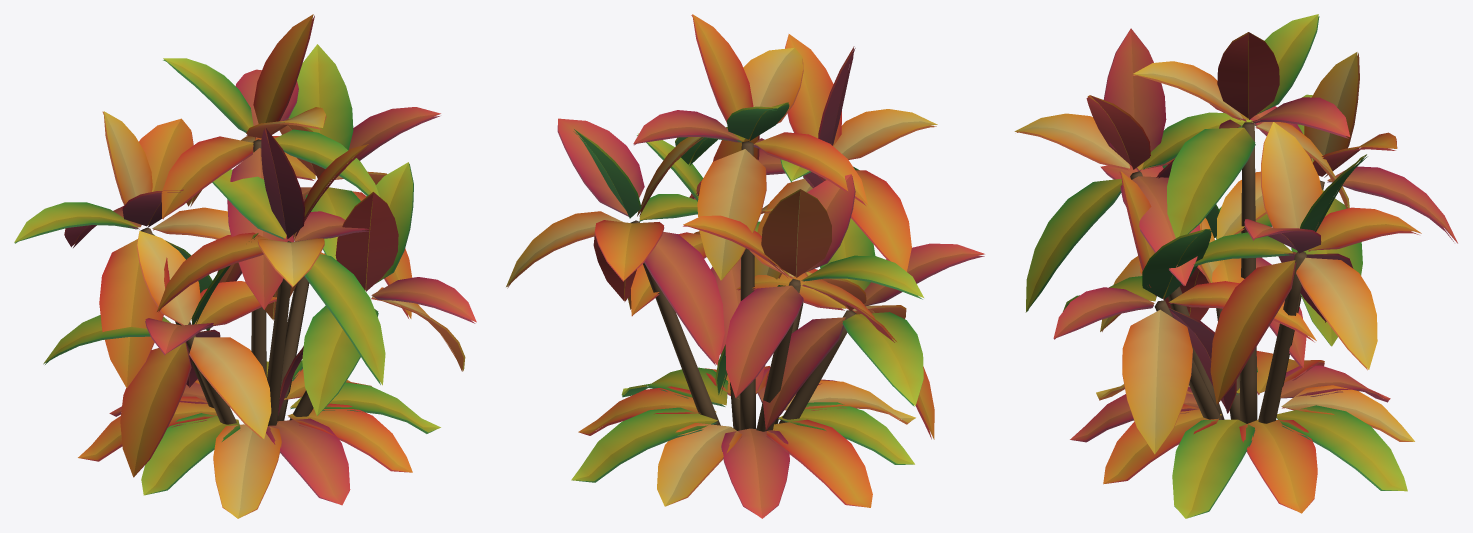
The model's file is bush_b.glb.
3 renders of one model, left to right at view 1: azimuth 30°, elevation 25°; view 2: azimuth 150°, elevation 25°; view 3: azimuth 270°, elevation 25°, orthographic. The views are drawn at different scales.
Parts seen in each view (by area): view 1: bush_b_mesh; view 2: bush_b_mesh; view 3: bush_b_mesh.
Boxes of the visible parts, x1,y1,x2,y2 form: bush_b_mesh: (14, 14, 476, 518); bush_b_mesh: (506, 14, 984, 518); bush_b_mesh: (1014, 14, 1457, 518).
Bounding box in the file's own units: 1.77 × 1.78 × 1.64.
